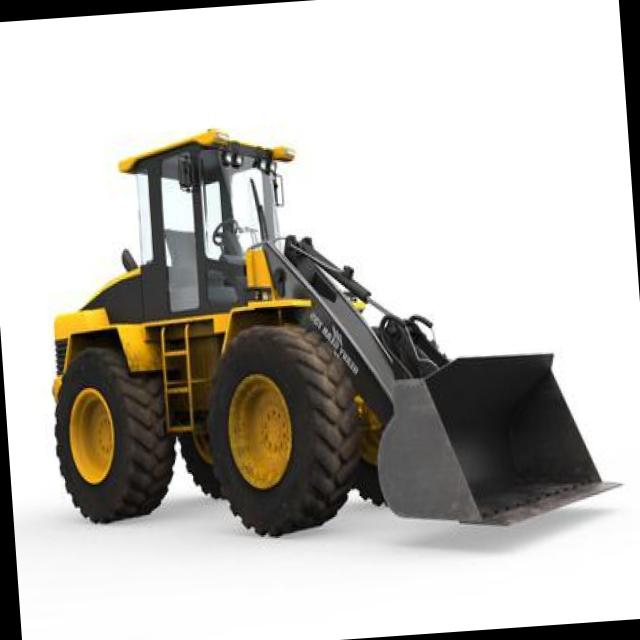pala cargadora: (28, 101, 627, 566)
